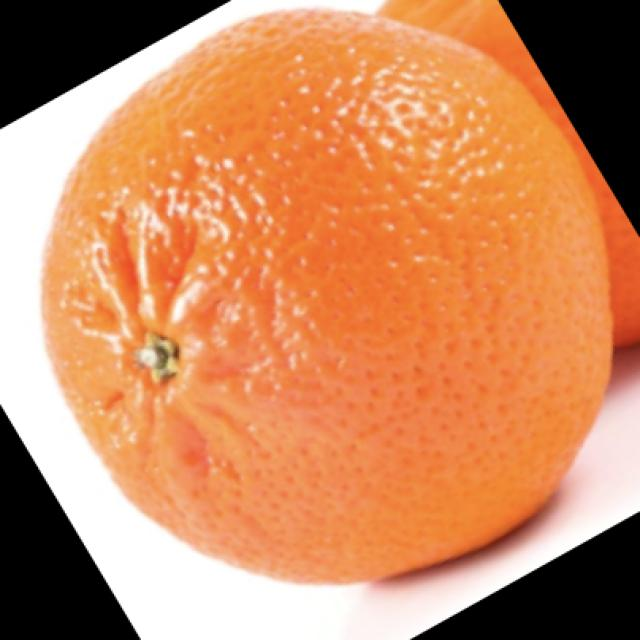matang: (45, 10, 613, 581)
